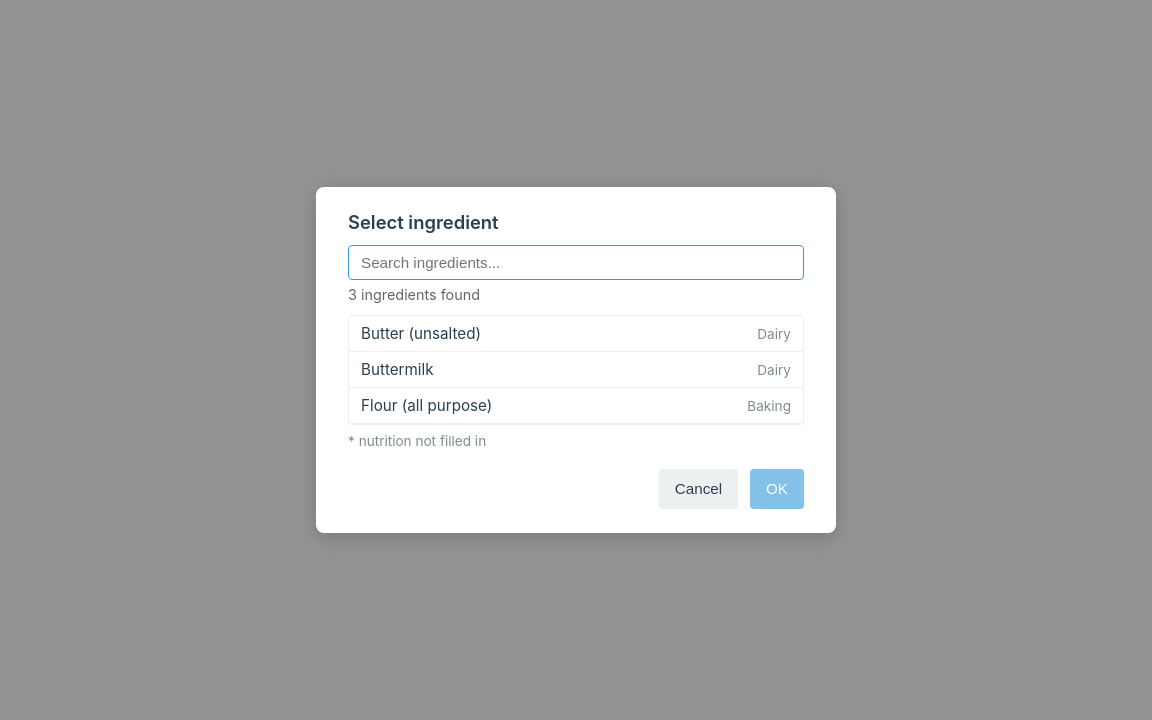
Test: IngredientPickerModal › lists every ingredient and narrows the list as you search
This screenshot has width=1152, height=720.
Expected: the text "3 ingredients found" is shown, [348,286,480,303]
Type "butter" into the field labelled "Search ingredients" at (576, 263), box [348,245,804,280]
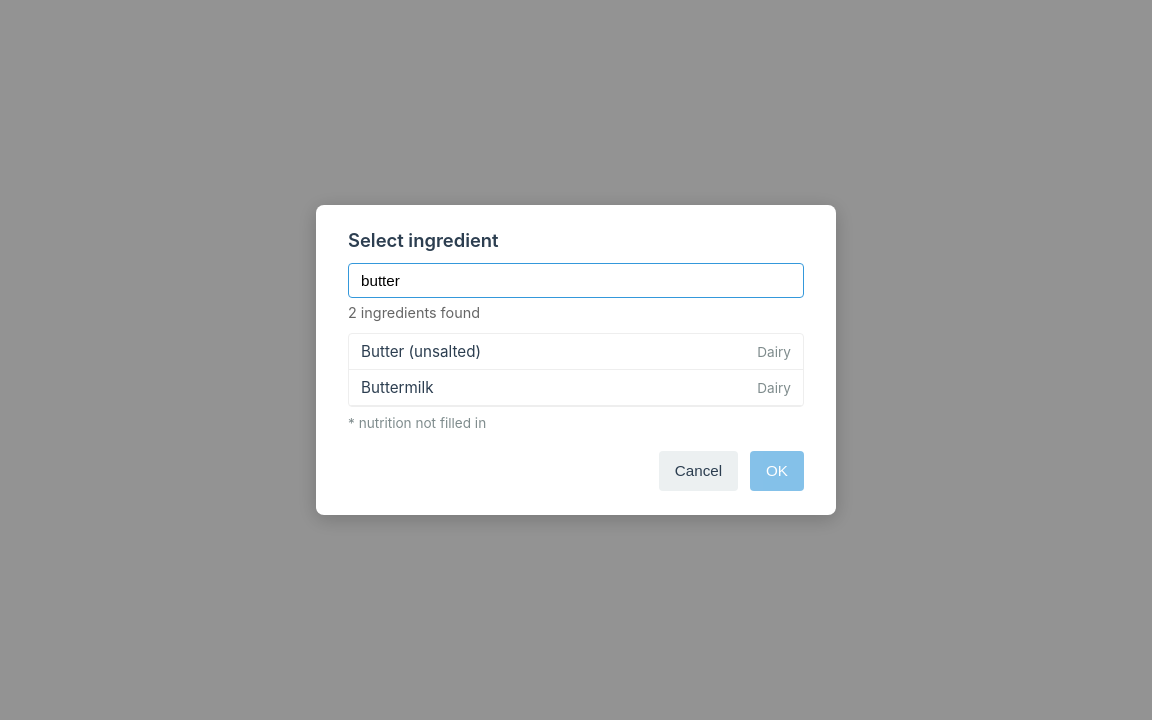
Expected: the text "Butter (unsalted)" is shown, [361,342,481,361]
Result: the text "2 ingredients found" is shown at [348,304,480,321]
Result: the button "Flour (all purpose)" is gone
